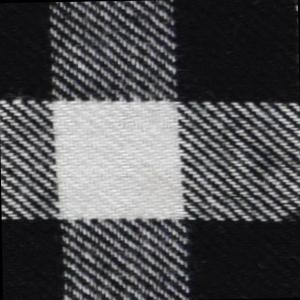Stain: (245, 145, 287, 183), (277, 201, 300, 233)
